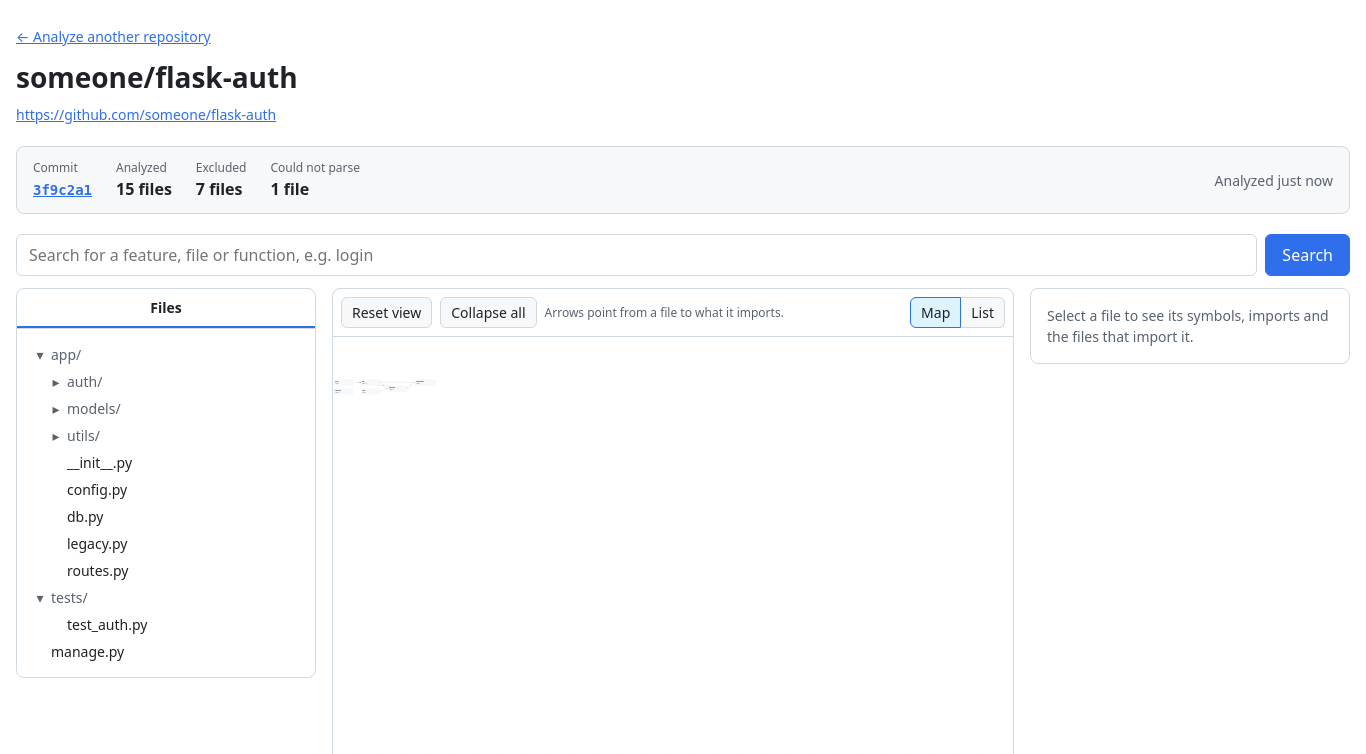
Test case: AnalysisPage search › closes the reading list when the search is cleared
Type "login" into the search field named "Search this repository" at (637, 255), box x1=16 y1=234 x2=1257 y2=276
Then press Enter
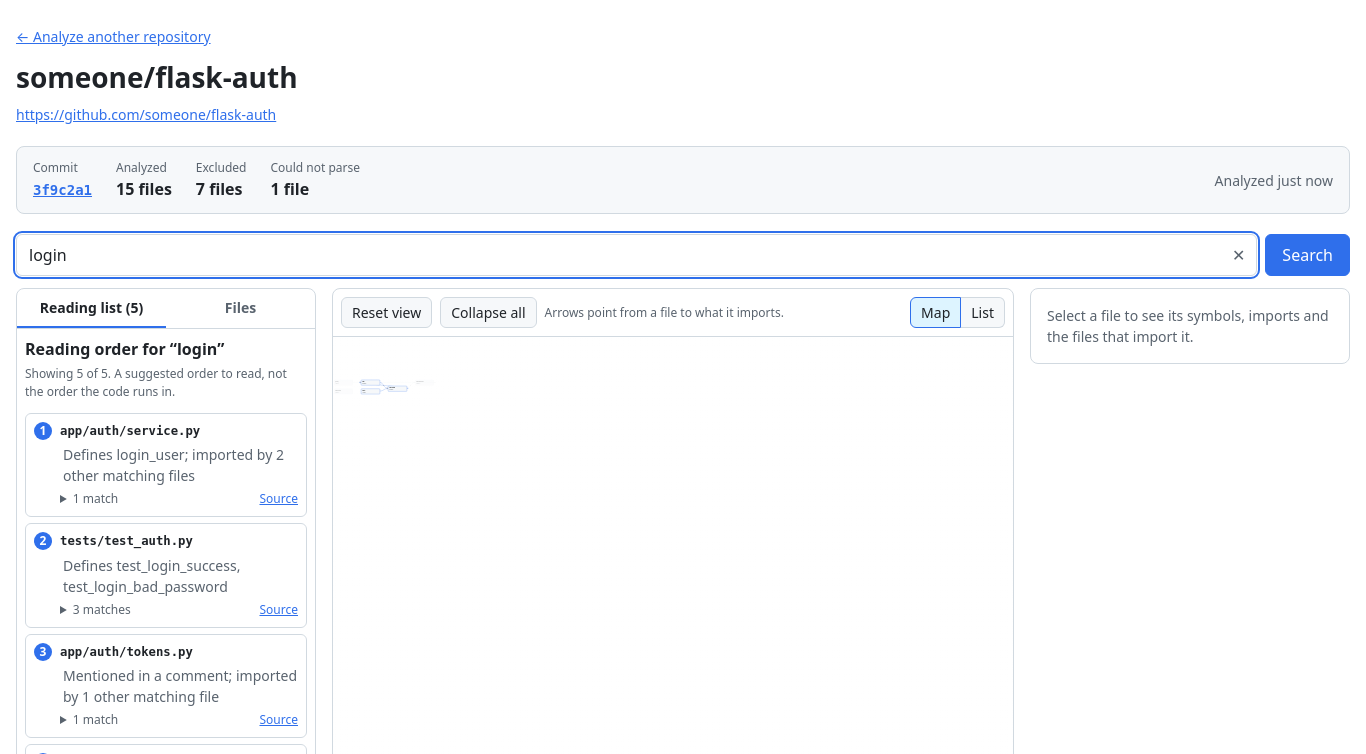
Expected: the heading "Reading order for “login”" is shown, x1=25 y1=338 x2=224 y2=360
Click the button named "Clear search" at (1239, 255), box x1=1226 y1=241 x2=1251 y2=269
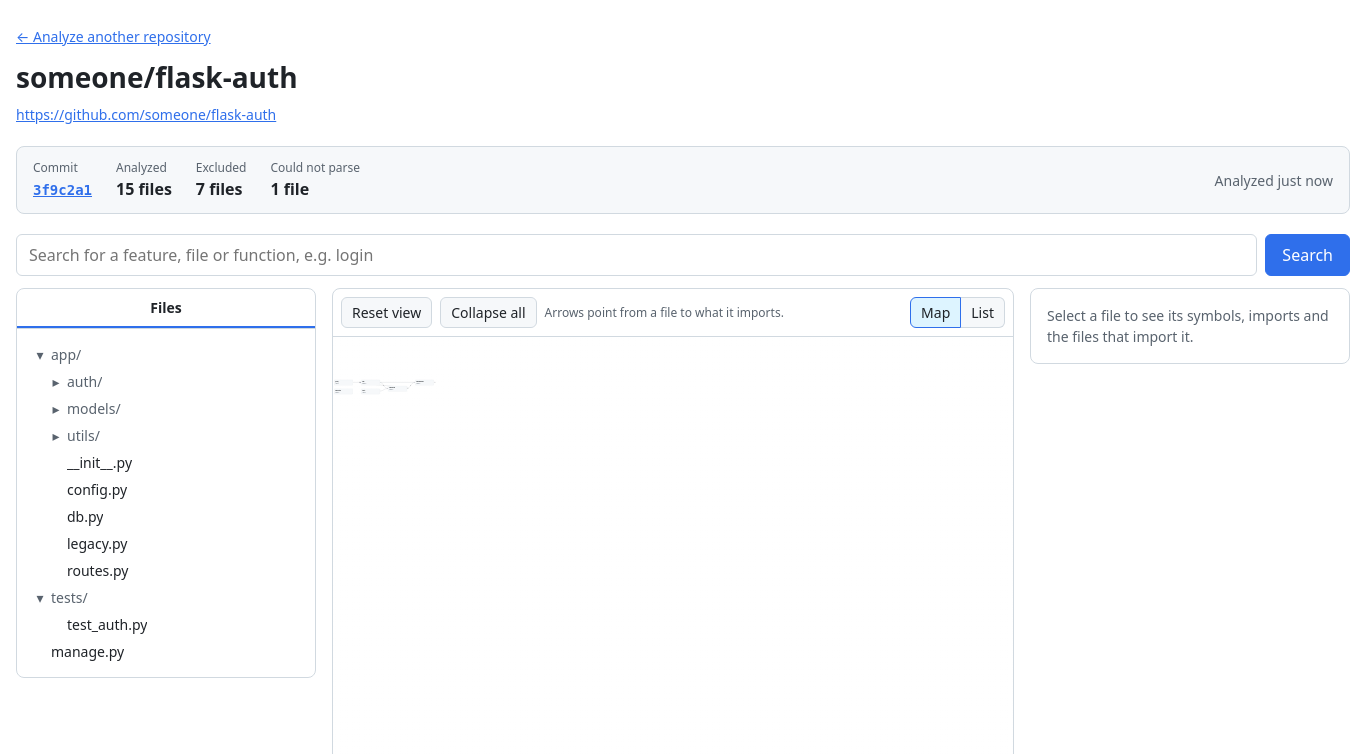
Expected: the tab "Reading list" is gone
